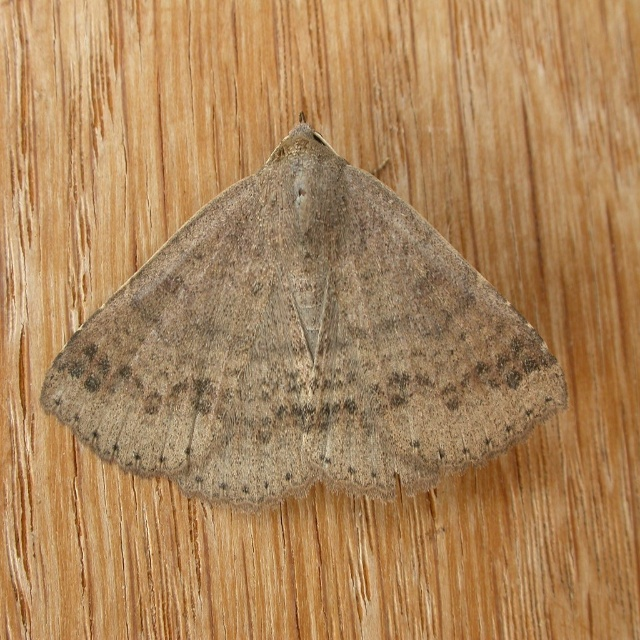Moths and butterflies: (40, 112, 568, 515)
